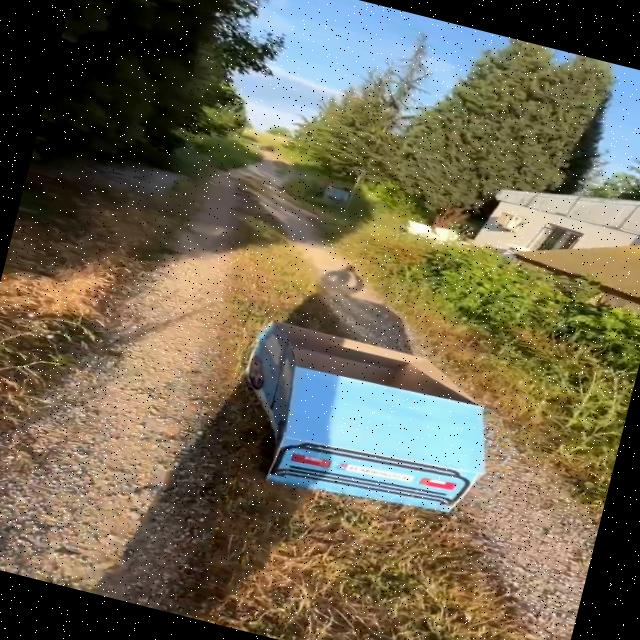blue_car: (151, 266, 592, 582)
